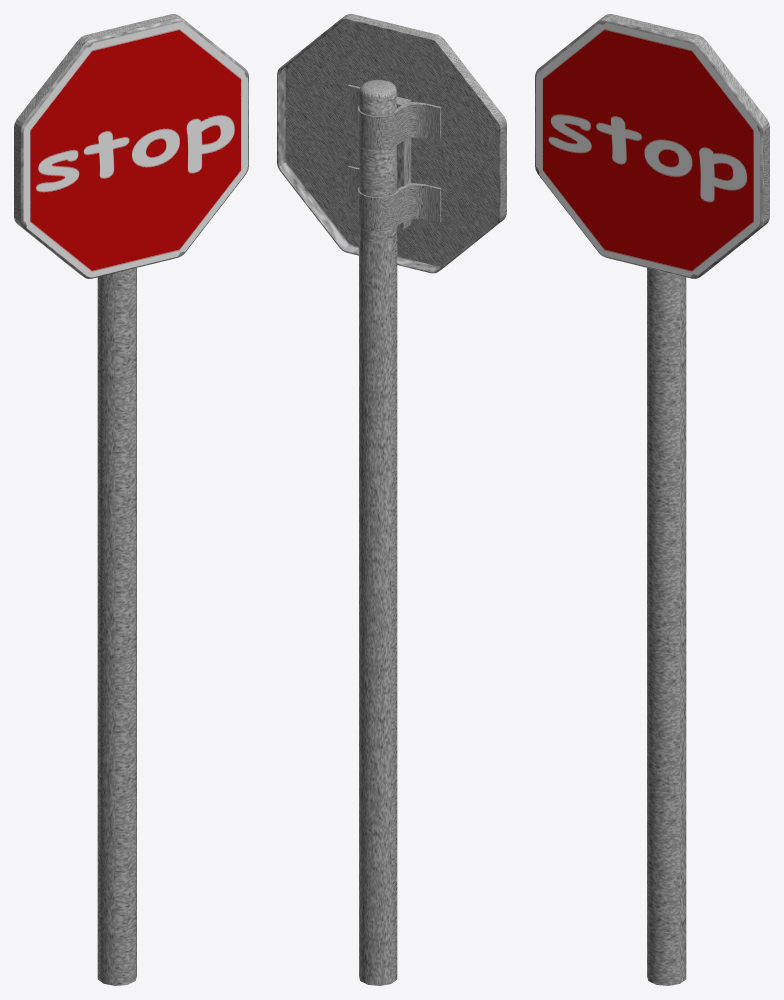
File: stop.obj
3 renders of one model, left to right at view 1: azimuth 30°, elevation 25°; view 2: azimuth 150°, elevation 25°; view 3: azimuth 330°, elevation 25°, orthographic. The views are drawn at different scales.
Parts seen in each view (by area): view 1: Cylinder.001; view 2: Cylinder.001; view 3: Cylinder.001.
Boxes of the visible parts, box(x1,y1,x2,y2) form: Cylinder.001: box(14, 14, 248, 985); Cylinder.001: box(277, 14, 506, 985); Cylinder.001: box(535, 14, 769, 985).
Size of the model in its own units: 0.6564 by 2.64 by 0.1424.
1 material, 1 textured.
